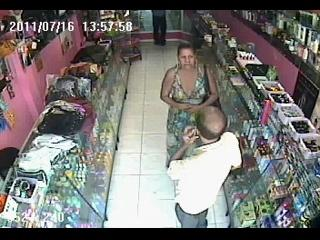Normal: (166, 106, 242, 228), (160, 42, 221, 168), (151, 10, 167, 46)
